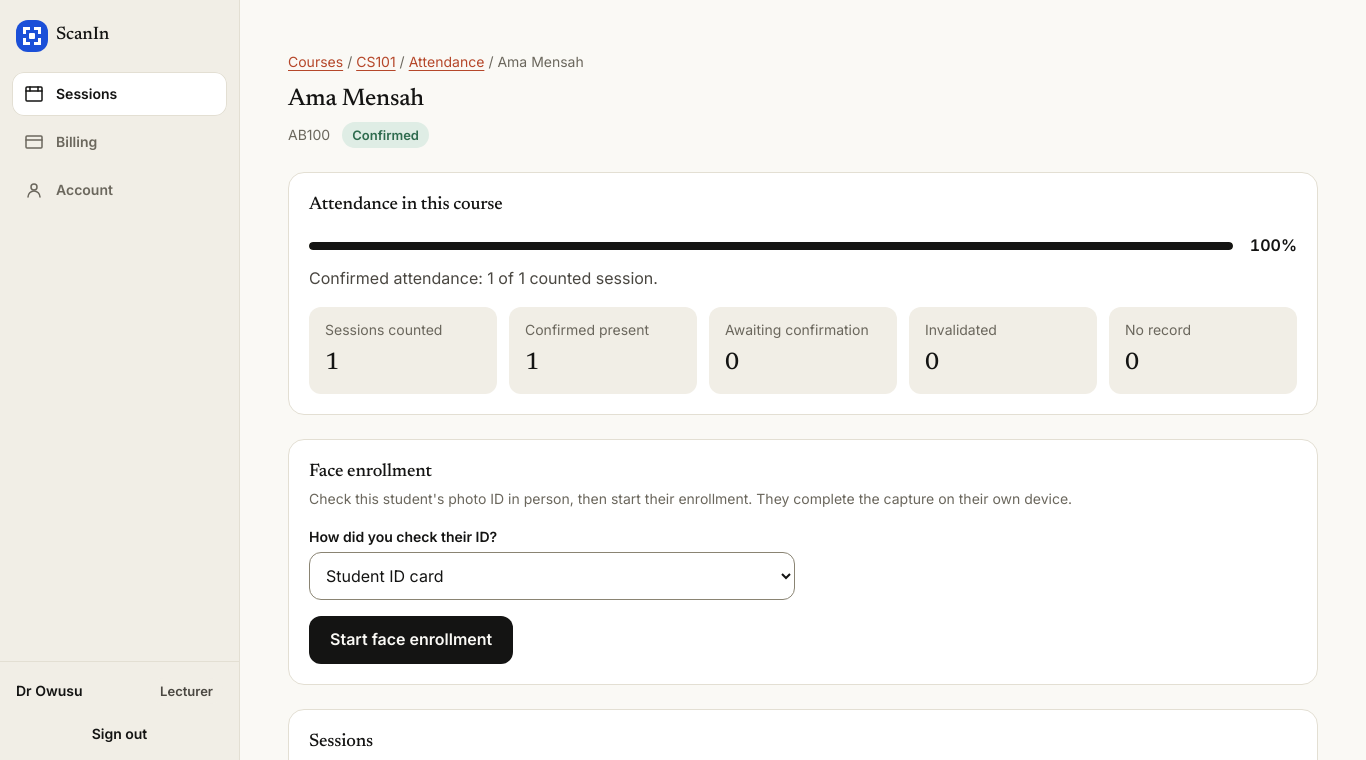
it: lecturer: starting a face enrollment › shows the enrollment card only when the course is in the pilot, and opens a session
Check: the heading "Face enrollment" is shown, box [309,463,432,481]
Click the button "Start face enrollment": {"x": 411, "y": 640} [309,616,513,664]
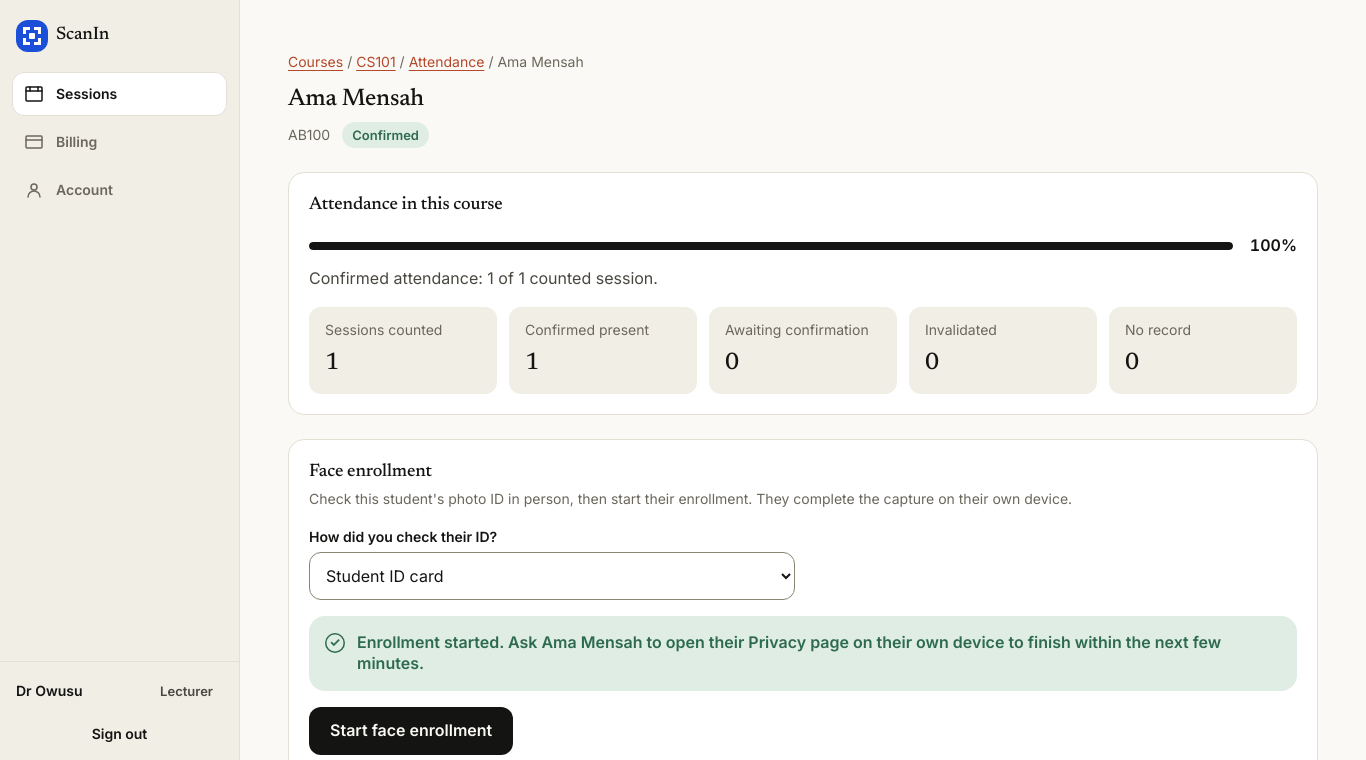
Check: the heading "Ask Ama Mensah to open their Privacy page" is shown, box [357,632,1221,673]
